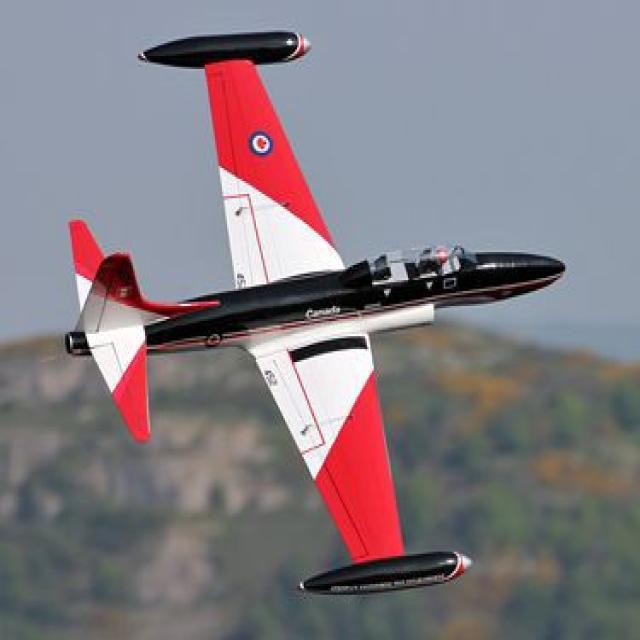iha: (59, 28, 569, 604)
